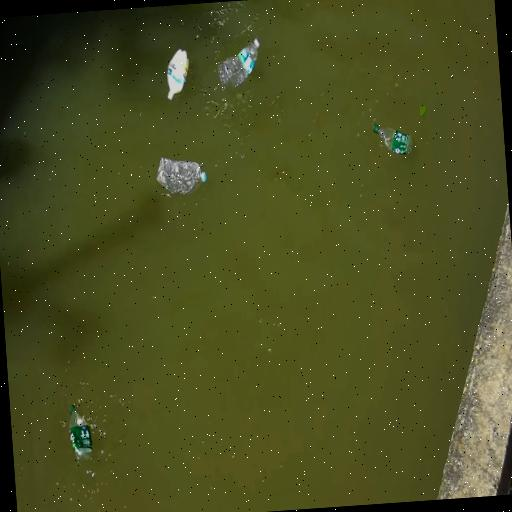plastic: (219, 39, 259, 89), (157, 158, 206, 194), (69, 404, 92, 462), (373, 124, 412, 154), (168, 50, 189, 100)
